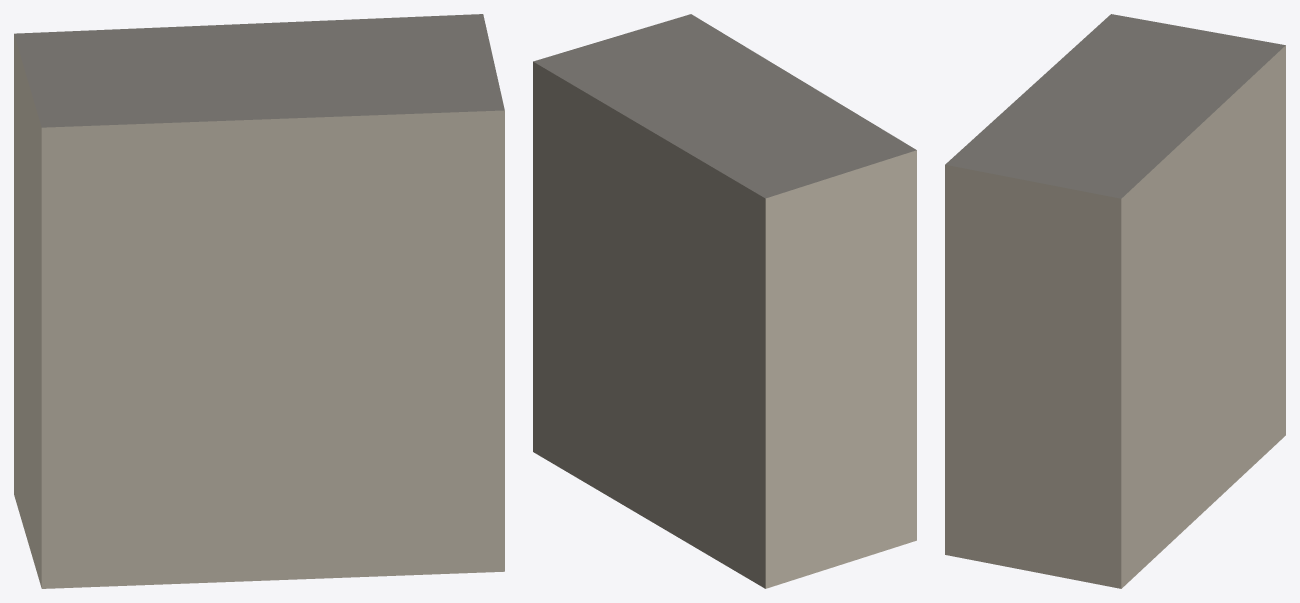
3 renders of one model, left to right at view 1: azimuth 30°, elevation 25°; view 2: azimuth 150°, elevation 25°; view 3: azimuth 270°, elevation 25°, orthographic. The views are drawn at different scales.
Parts seen in each view (by area): view 1: HP-w505643544; view 2: HP-w505643544; view 3: HP-w505643544.
Part boxes in pixels (<box>): HP-w505643544: <box>14,14,504,588</box>; HP-w505643544: <box>533,14,916,588</box>; HP-w505643544: <box>945,14,1285,588</box>.
Size of the model in its own units: 18.28 by 18 by 14.25.
